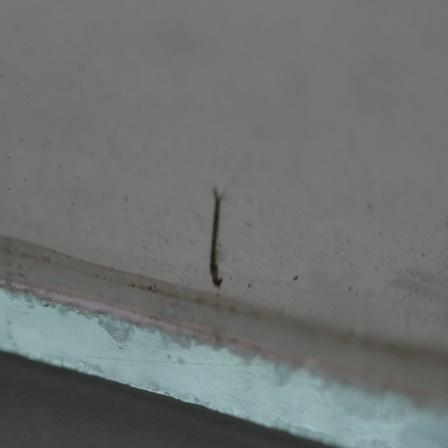Jentik-Nyamuk: (204, 179, 229, 290)
